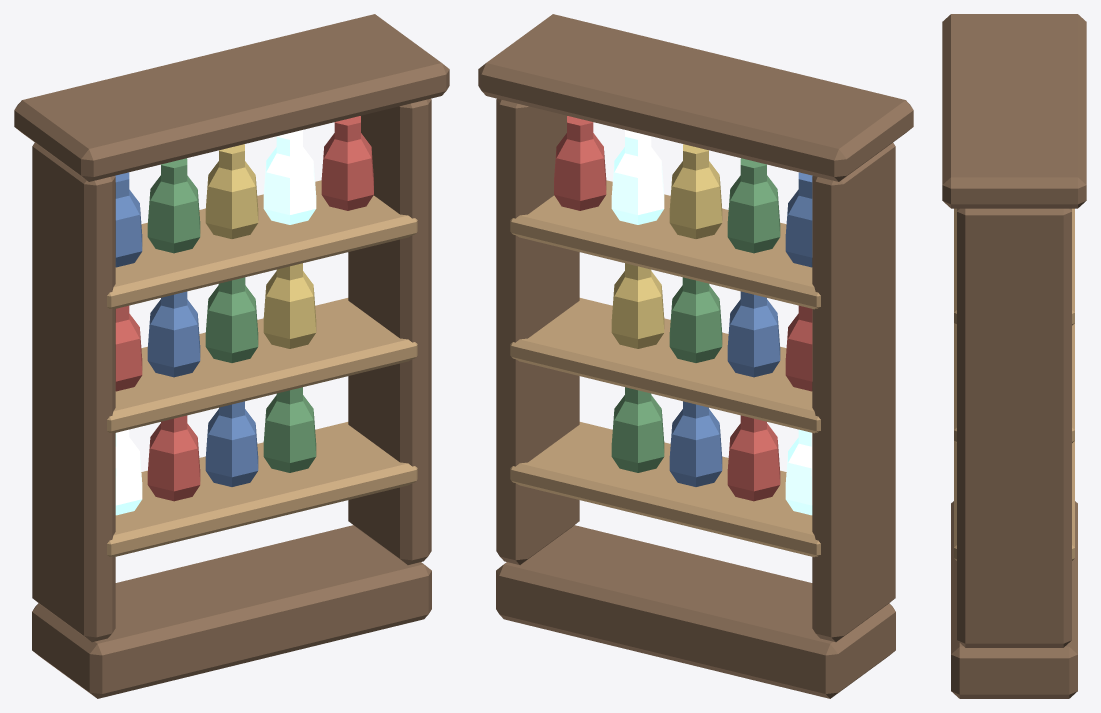
Rendered from potion-shelf.glb.
The picture shows the model from 3 angles, left to right: view 1: azimuth 30°, elevation 25°; view 2: azimuth 150°, elevation 25°; view 3: azimuth 270°, elevation 25°; orthographic projection. The views are drawn at different scales.
Parts seen in each view (by area): view 1: potion-shelf; view 2: potion-shelf; view 3: potion-shelf.
Part boxes in pixels (bbox=[...]): potion-shelf: bbox=[14, 14, 449, 698]; potion-shelf: bbox=[478, 14, 913, 698]; potion-shelf: bbox=[942, 14, 1086, 698].
Size of the model in its own units: 1.4 by 2.02 by 0.4998.
